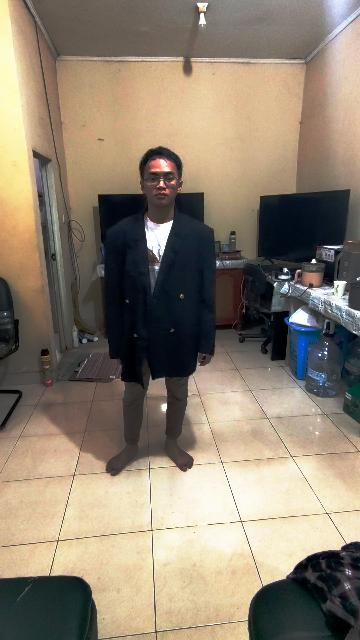berdiri: (104, 148, 214, 486)
